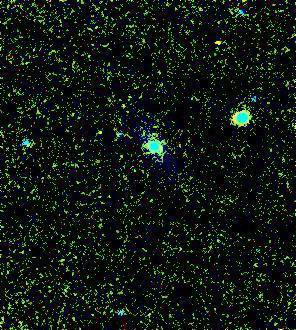star: (206, 27, 236, 57)
